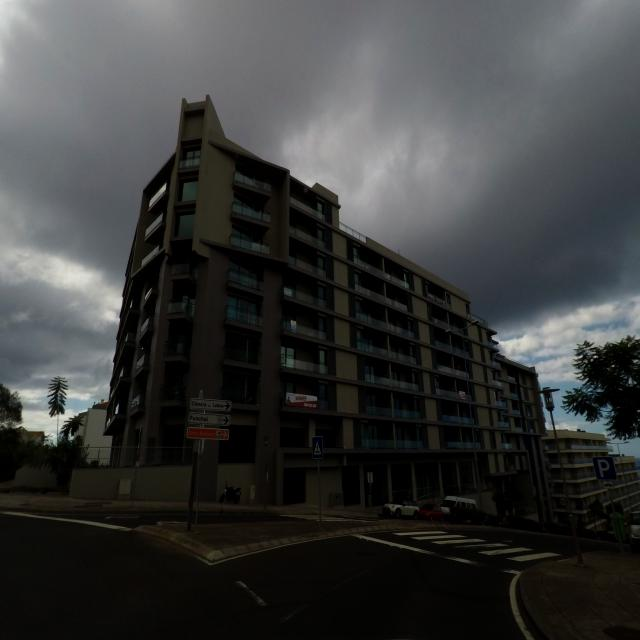bike: (219, 483, 242, 505)
car: (439, 491, 480, 518), (382, 498, 419, 520), (627, 504, 640, 554), (420, 500, 444, 520)
